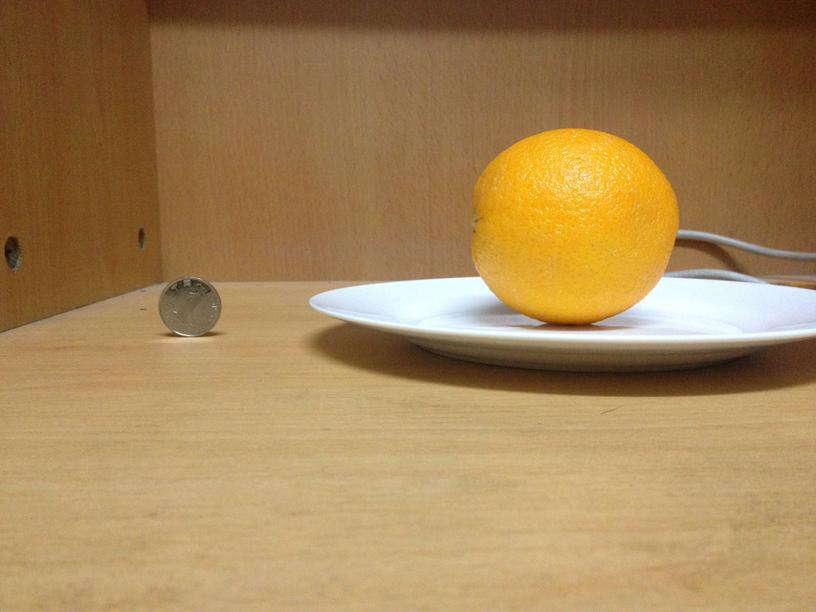coin: (157, 278, 221, 335)
orange: (469, 129, 681, 323)
